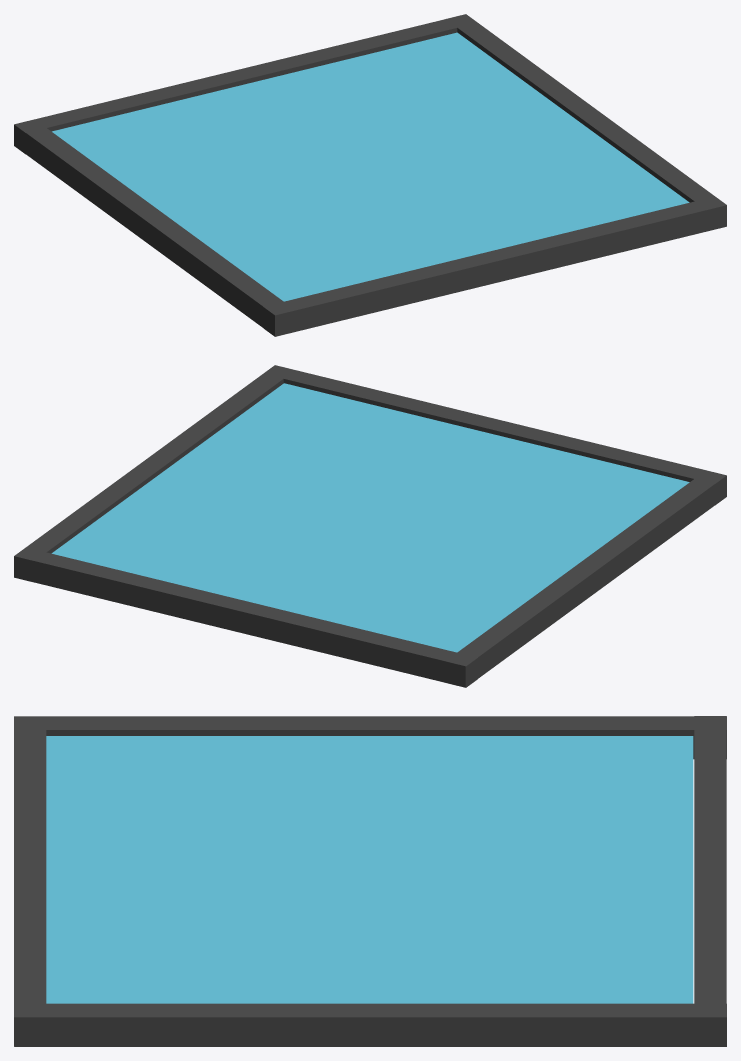
The model's file is Field_Plate.fbx.
3 views of the same model, one above another, from view 1: azimuth 30°, elevation 25°; view 2: azimuth 150°, elevation 25°; view 3: azimuth 270°, elevation 25° (orthographic). The views are drawn at different scales.
Parts seen in each view (by area): view 1: pCube1, group_pasted__pCube2; view 2: pCube1, group_pasted__pCube2; view 3: pCube1, group_pasted__pCube2.
Part boxes in pixels (x1,y1,x2,y2): pCube1: [52, 32, 689, 301]; group_pasted__pCube2: [14, 14, 726, 336]; pCube1: [51, 383, 689, 652]; group_pasted__pCube2: [14, 365, 726, 687]; pCube1: [46, 736, 693, 1003]; group_pasted__pCube2: [14, 716, 726, 1046].
Size of the model in its own units: 11 by 0.5 by 11.01.
